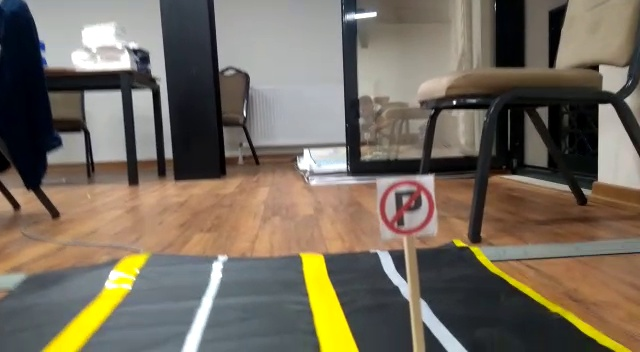park_yapilmaz: (378, 176, 436, 238)
